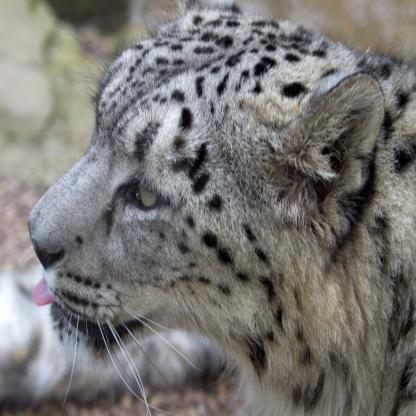leopard: (25, 1, 383, 385)
